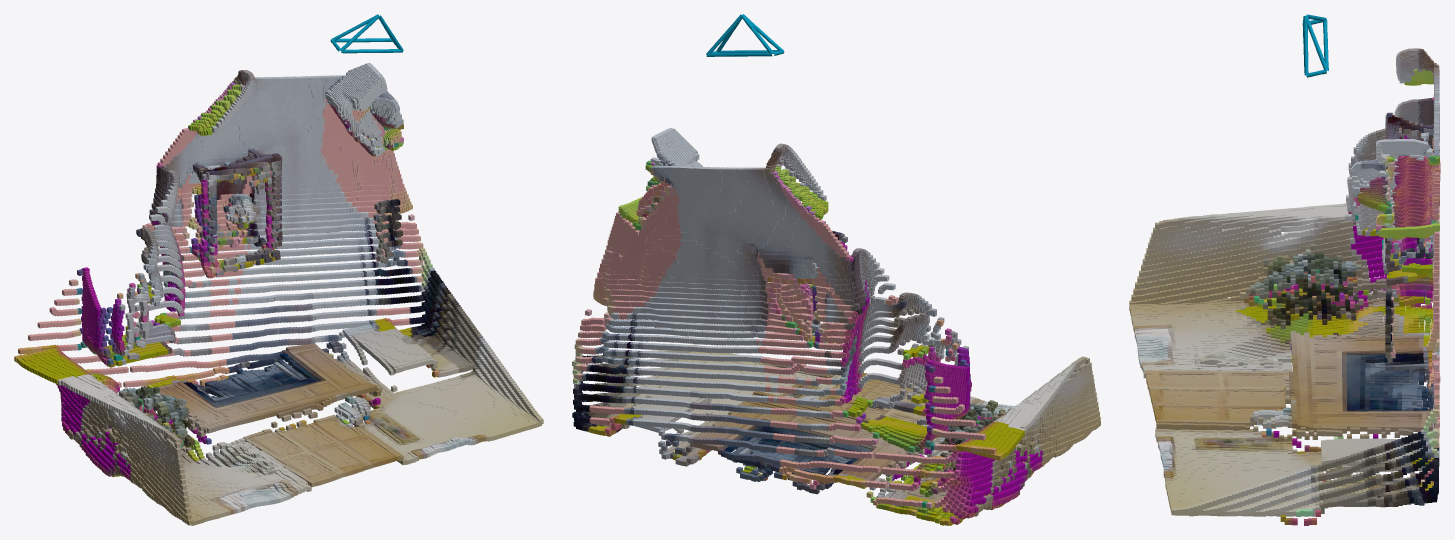
The picture shows the model from 3 angles, left to right: view 1: azimuth 30°, elevation 25°; view 2: azimuth 150°, elevation 25°; view 3: azimuth 270°, elevation 25°; orthographic projection. The views are drawn at different scales.
Bounding box in the file's own units: 5.32 × 4.79 × 2.99.
